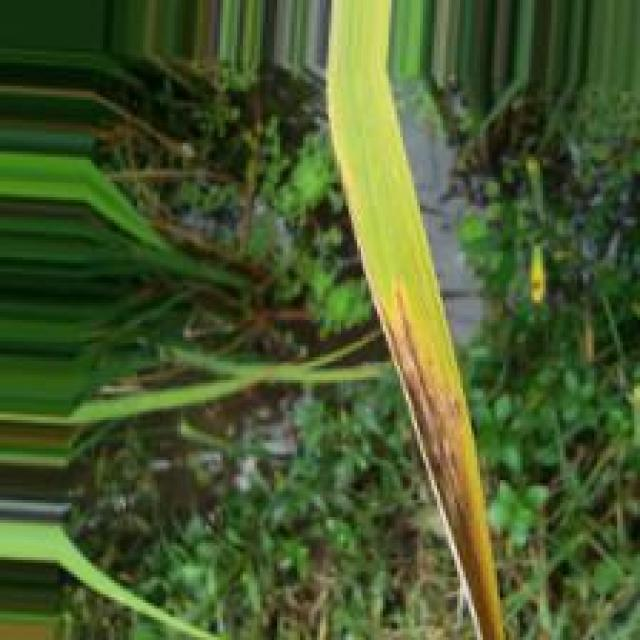Leaf_Scald: (378, 276, 507, 640)
